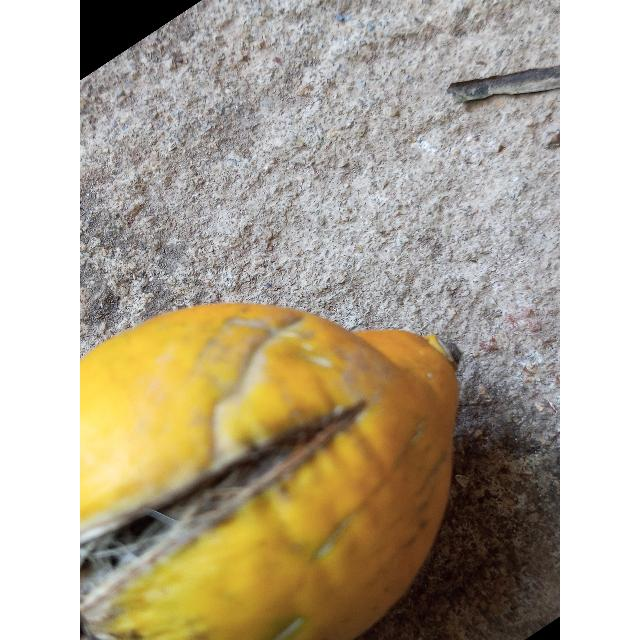damaged: (80, 303, 459, 640)
